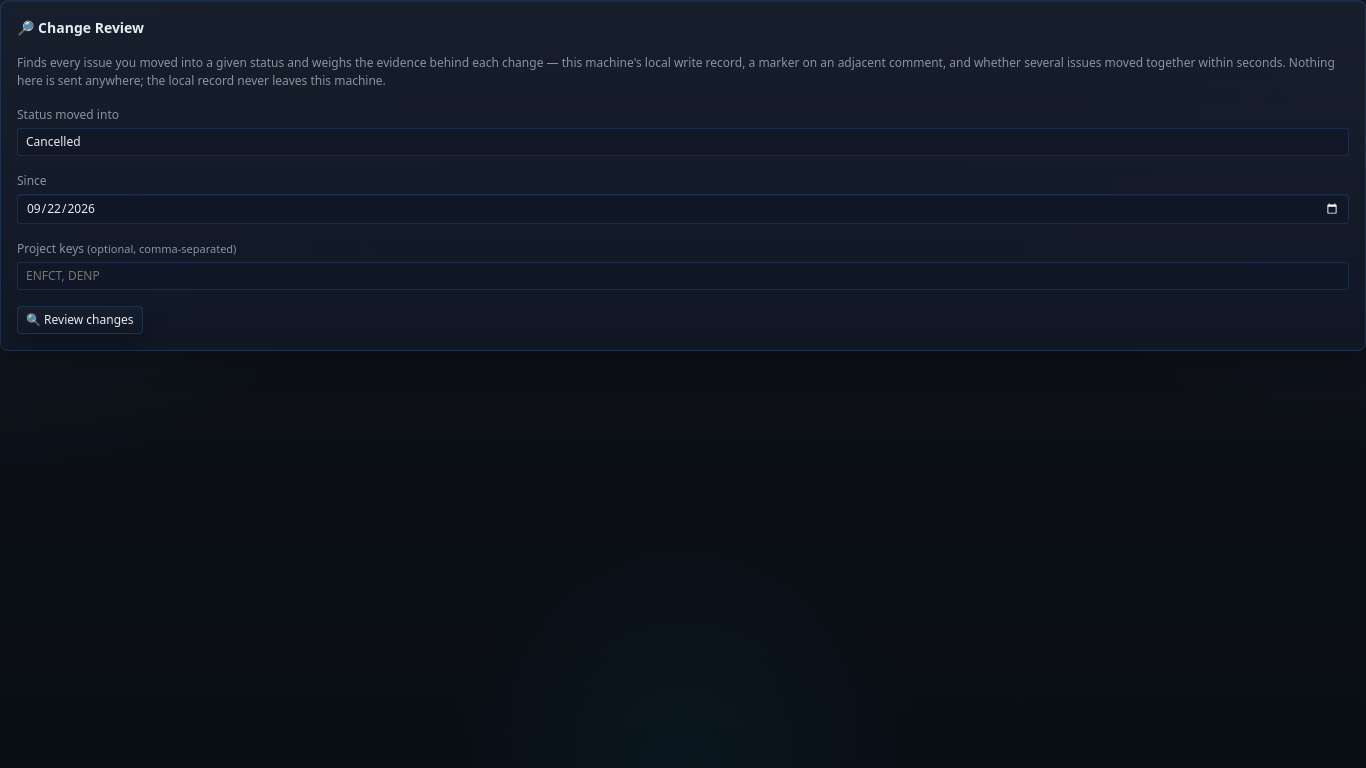
Test: ChangeAuditPanel › states where the local record starts when it has one
Click the button "🔍 Review changes" at (80, 320), box [17, 306, 143, 334]
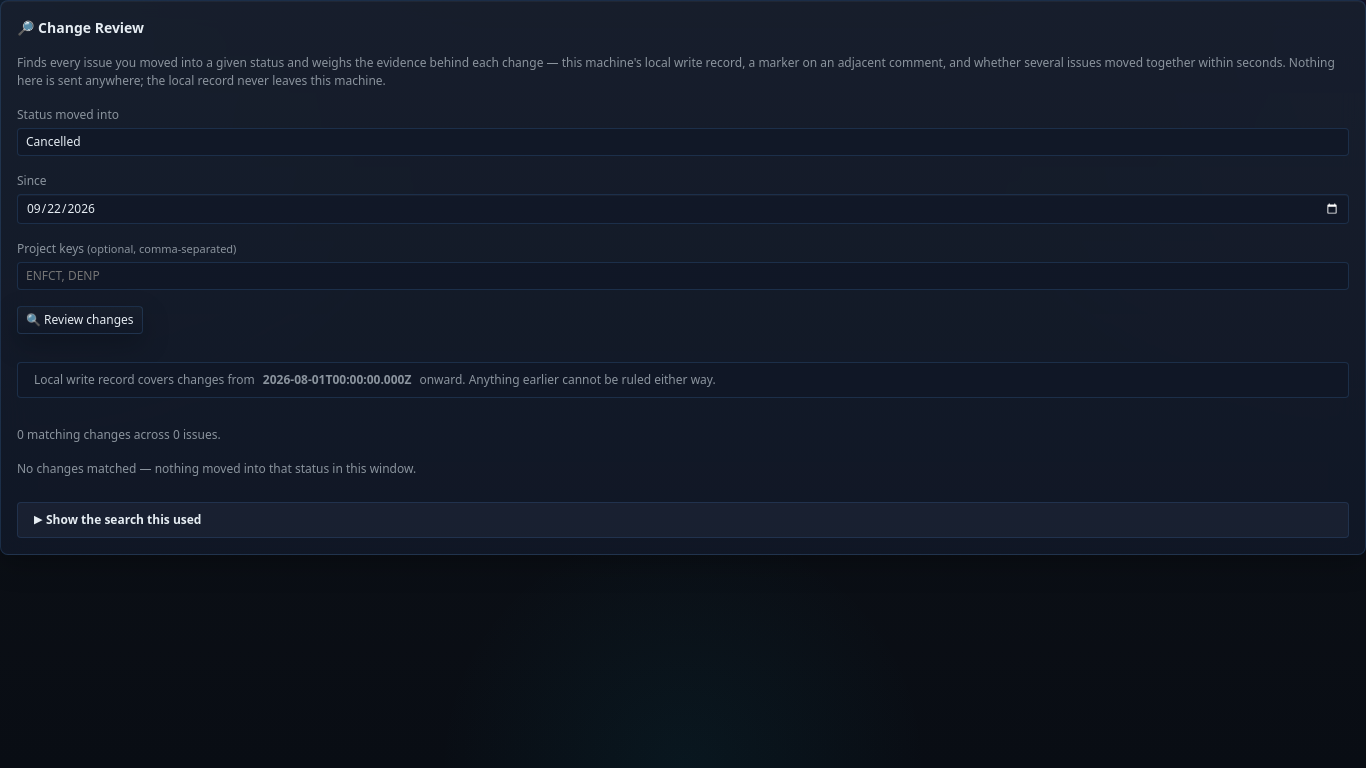
Result: the text "2026-08-01T00:00:00.000Z" is shown at [263, 371, 411, 389]
